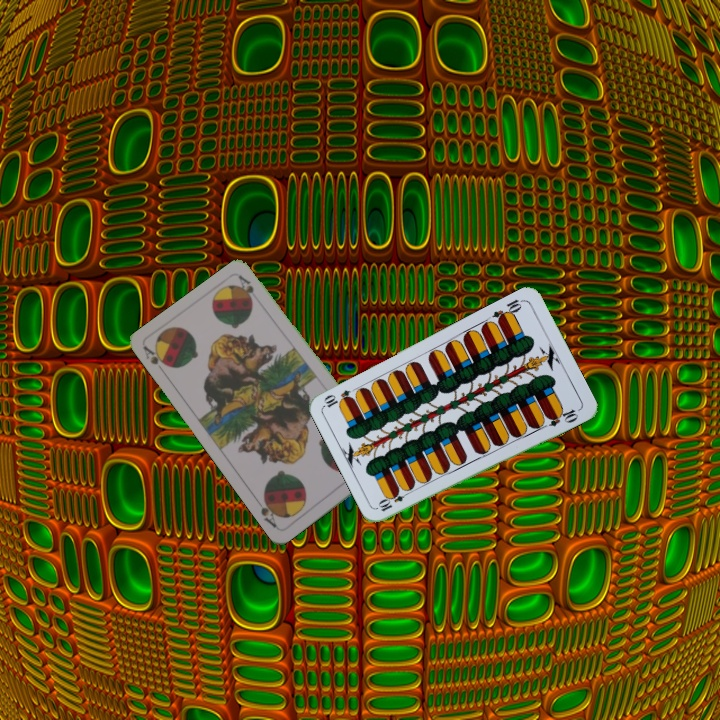E10: (488, 295, 526, 325), (375, 486, 413, 514)
SA: (140, 342, 172, 370)
